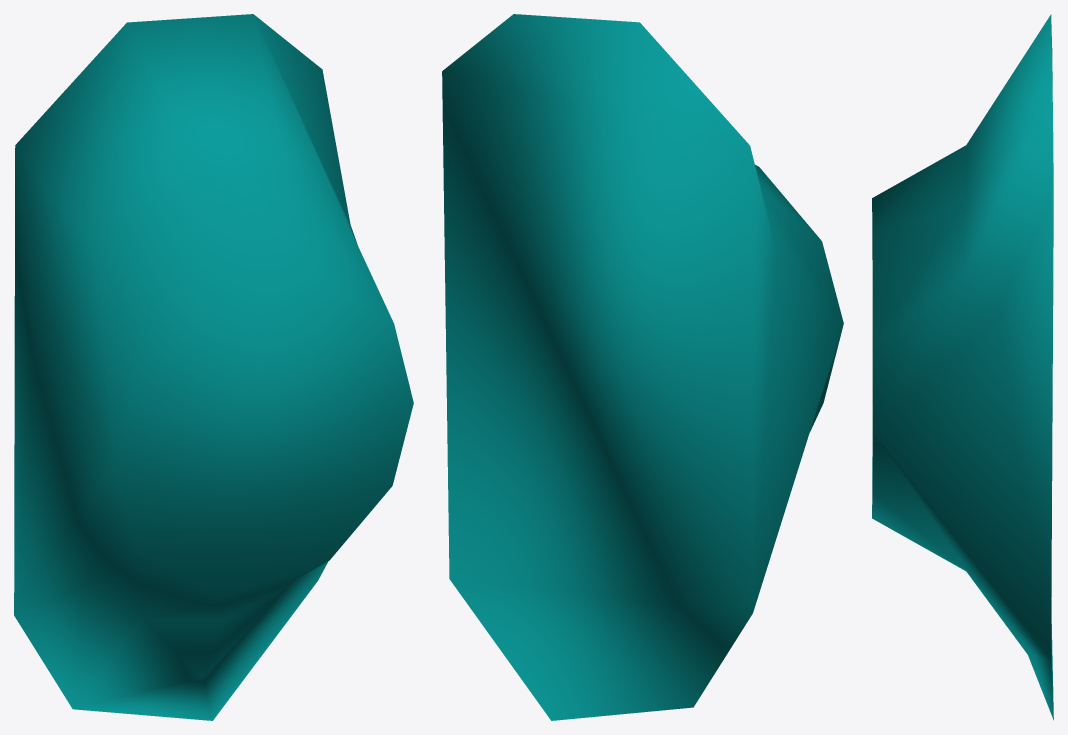
The model's file is 6a11000_halsbasis_t1_col.obj.
3 renders of one model, left to right at view 1: azimuth 30°, elevation 25°; view 2: azimuth 150°, elevation 25°; view 3: azimuth 270°, elevation 25°, orthographic. The views are drawn at different scales.
Size of the model in its own units: 0.1459 by 0.324 by 0.08.
